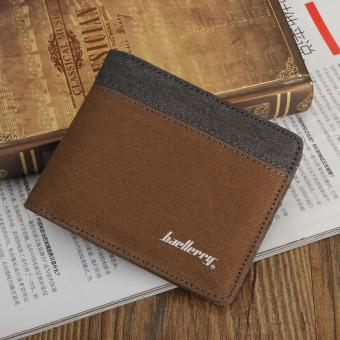monedero: (24, 49, 304, 306)
